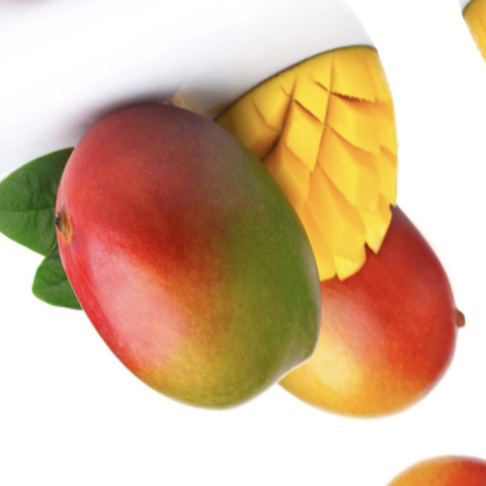mango: (0, 50, 370, 462), (182, 133, 486, 474)
